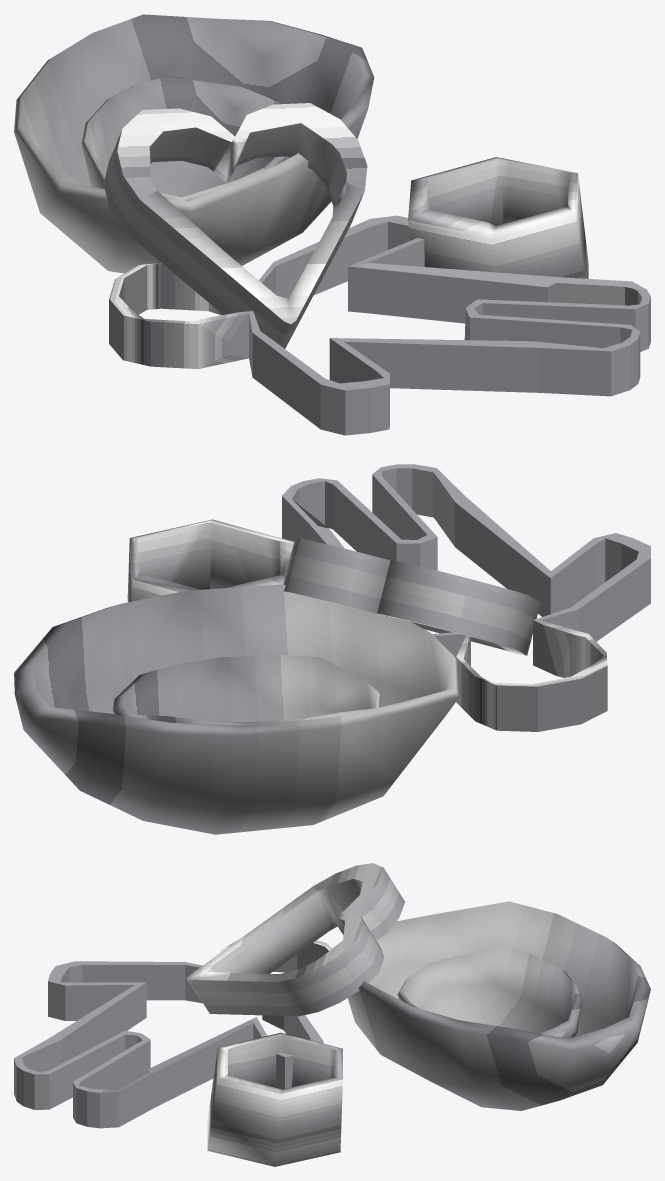
File: BakingMolds.fbx
The picture shows the model from 3 angles, top to bottom: view 1: azimuth 30°, elevation 25°; view 2: azimuth 150°, elevation 25°; view 3: azimuth 270°, elevation 25°; orthographic projection. The views are drawn at different scales.
Parts seen in each view (by area): view 1: Molds; view 2: Molds; view 3: Molds.
Part boxes in pixels (<box>): Molds: <box>14,14,650,435</box>; Molds: <box>14,464,650,834</box>; Molds: <box>14,863,650,1166</box>.
Size of the model in its own units: 38.08 by 16.75 by 56.44.
